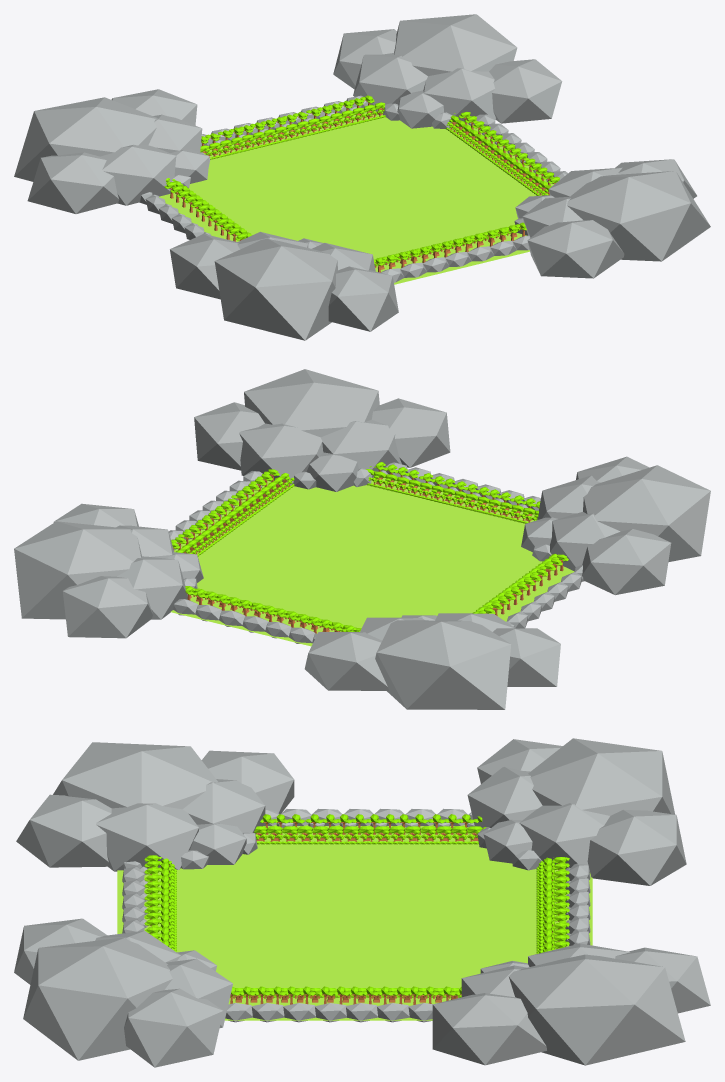
Rendered from arena.fbx.
3 views of the same model, one above another, from view 1: azimuth 30°, elevation 25°; view 2: azimuth 150°, elevation 25°; view 3: azimuth 270°, elevation 25° (orthographic). The views are drawn at different scales.
Visible parts, largest first — view 1: Grass, Rock.002, Rock.001, Rock, Rock.003, StoneLine.001, LeavesB.003, LeavesC.001, StoneLine.002, StoneLine.003, StoneLine, LeavesC.002 (+6 smaller); view 2: Grass, Rock.003, Rock.001, Rock.002, Rock, StoneLine, StoneLine.003, LeavesC.003, StoneLine.001, LeavesB.004, LeavesC.001, StoneLine.002 (+5 smaller); view 3: Grass, Rock, Rock.002, Rock.001, Rock.003, StoneLine.002, StoneLine.003, StoneLine, LeavesB.001, StoneLine.001, LeavesC.003, LeavesC.004 (+9 smaller).
Part boxes in pixels (<box>): Grass: <box>159,110,554,284</box>; Rock.002: <box>333,14,562,128</box>; Rock.001: <box>14,89,210,213</box>; Rock: <box>170,231,398,340</box>; Rock.003: <box>514,159,710,278</box>; StoneLine.001: <box>381,235,530,282</box>; LeavesB.003: <box>200,102,385,152</box>; LeavesC.001: <box>201,95,374,143</box>; StoneLine.002: <box>468,114,567,183</box>; StoneLine.003: <box>139,192,210,239</box>; StoneLine: <box>200,95,368,146</box>; LeavesC.002: <box>373,222,526,265</box>; Grass: <box>171,477,574,646</box>; Rock.003: <box>194,369,450,491</box>; Rock.001: <box>304,613,560,709</box>; Rock.002: <box>14,503,203,638</box>; Rock: <box>521,456,710,595</box>; StoneLine: <box>173,599,317,643</box>; StoneLine.003: <box>506,565,584,628</box>; LeavesC.003: <box>171,469,279,548</box>; StoneLine.001: <box>381,462,540,510</box>; LeavesB.004: <box>366,469,538,517</box>; LeavesC.001: <box>185,586,360,631</box>; StoneLine.002: <box>168,471,263,549</box>; Grass: <box>117,824,592,1020</box>; Rock: <box>16,742,294,871</box>; Rock.002: <box>432,943,710,1065</box>; Rock.001: <box>467,738,686,885</box>; Rock.003: <box>14,918,232,1067</box>; StoneLine.002: <box>225,1003,432,1022</box>; StoneLine.003: <box>263,808,474,827</box>; StoneLine: <box>565,863,590,945</box>; LeavesB.001: <box>254,826,486,833</box>; StoneLine.001: <box>122,861,147,933</box>; LeavesC.003: <box>231,986,461,995</box>; LeavesC.004: <box>260,814,482,823</box>.
Bounding box in the file's own units: 25970 × 3064 × 25592.
